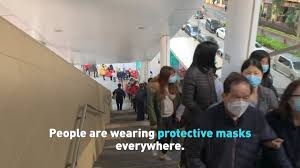mask: (219, 69, 252, 119), (192, 39, 223, 70), (282, 76, 300, 116), (241, 58, 264, 87), (253, 48, 273, 72), (159, 64, 175, 87)
